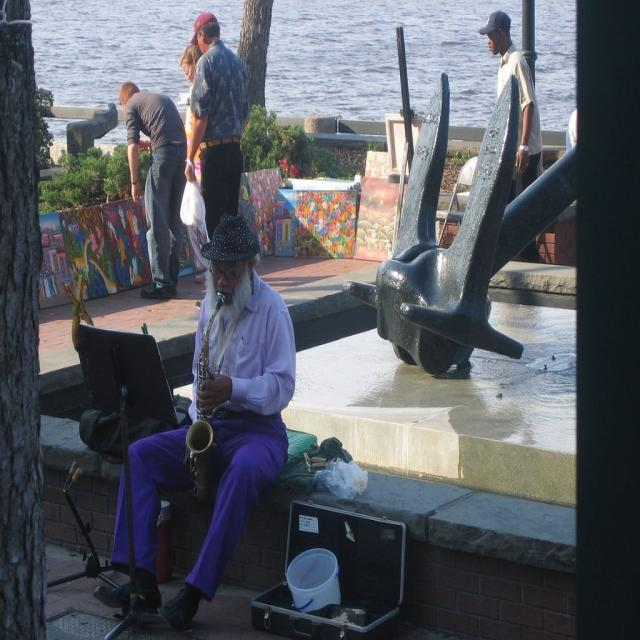saxophone: (187, 289, 233, 508)
